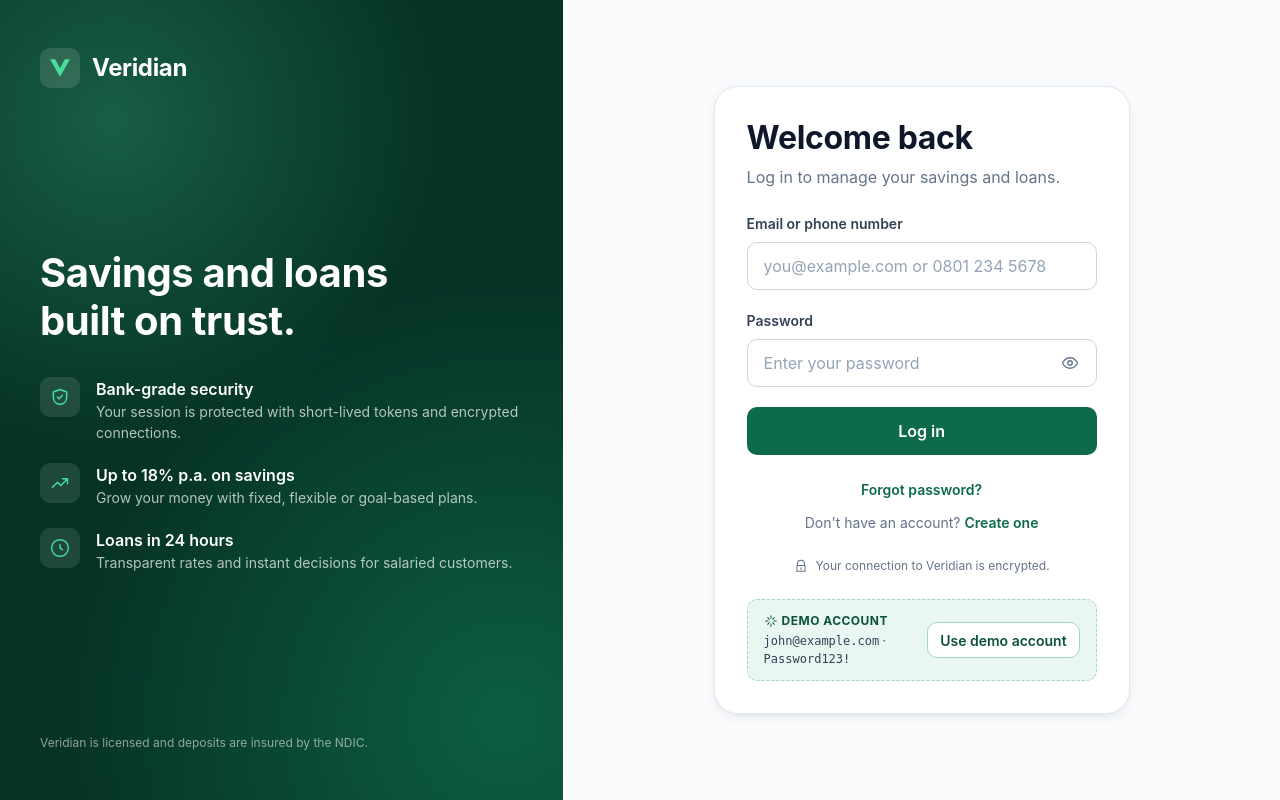
application flows › logs in successfully and lands on the dashboard
In the field labelled "Email or phone number": (922, 266) [748,243,1096,289], type "john@example.com"
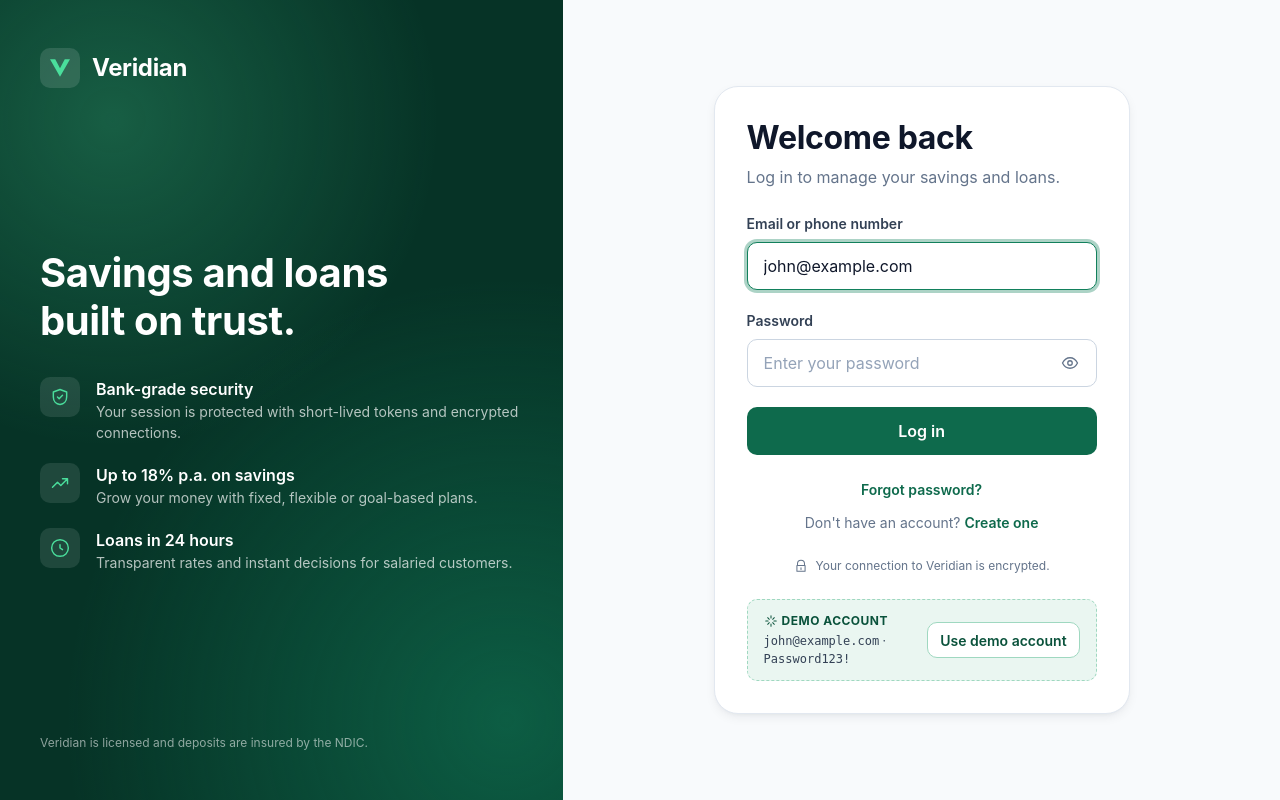
In the password field labelled "Password": (900, 363) [748,340,1052,386], type "Password123!"
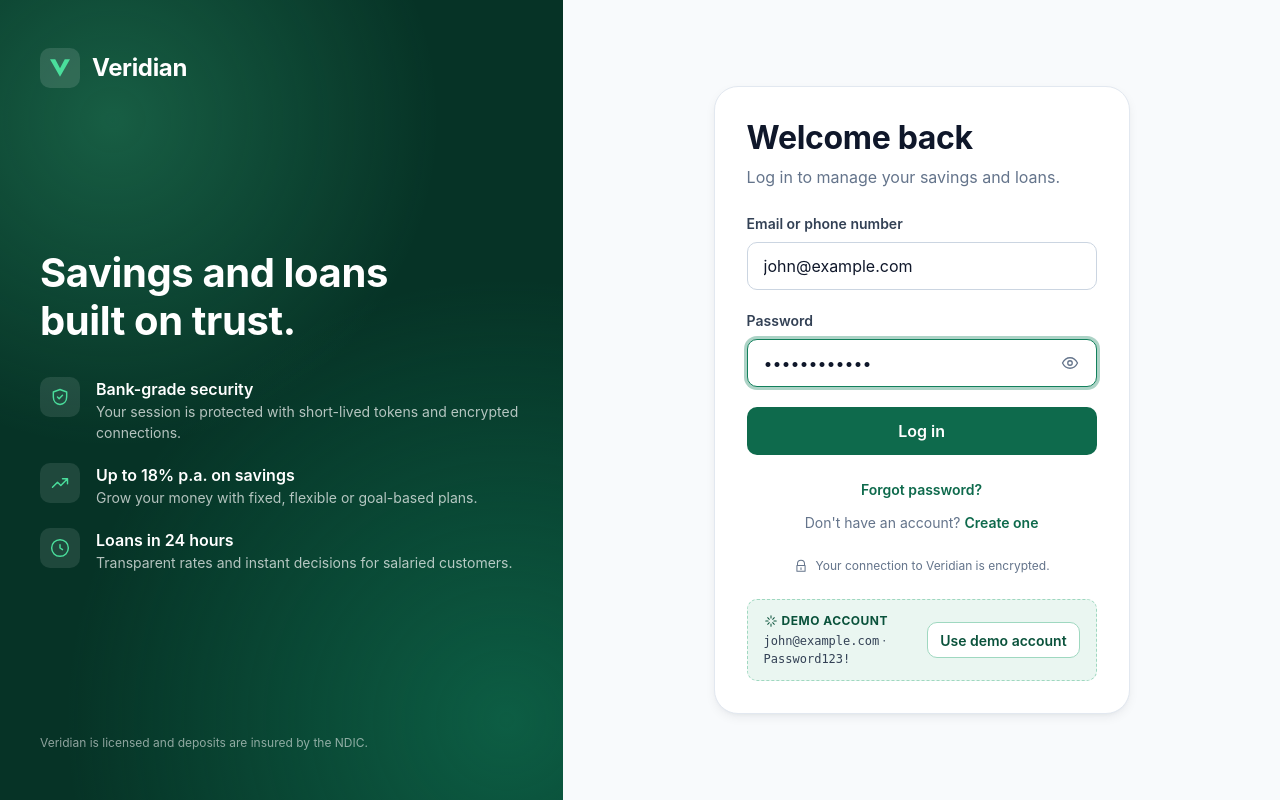
Click the button "Log in": (922, 431) [747,407,1097,455]
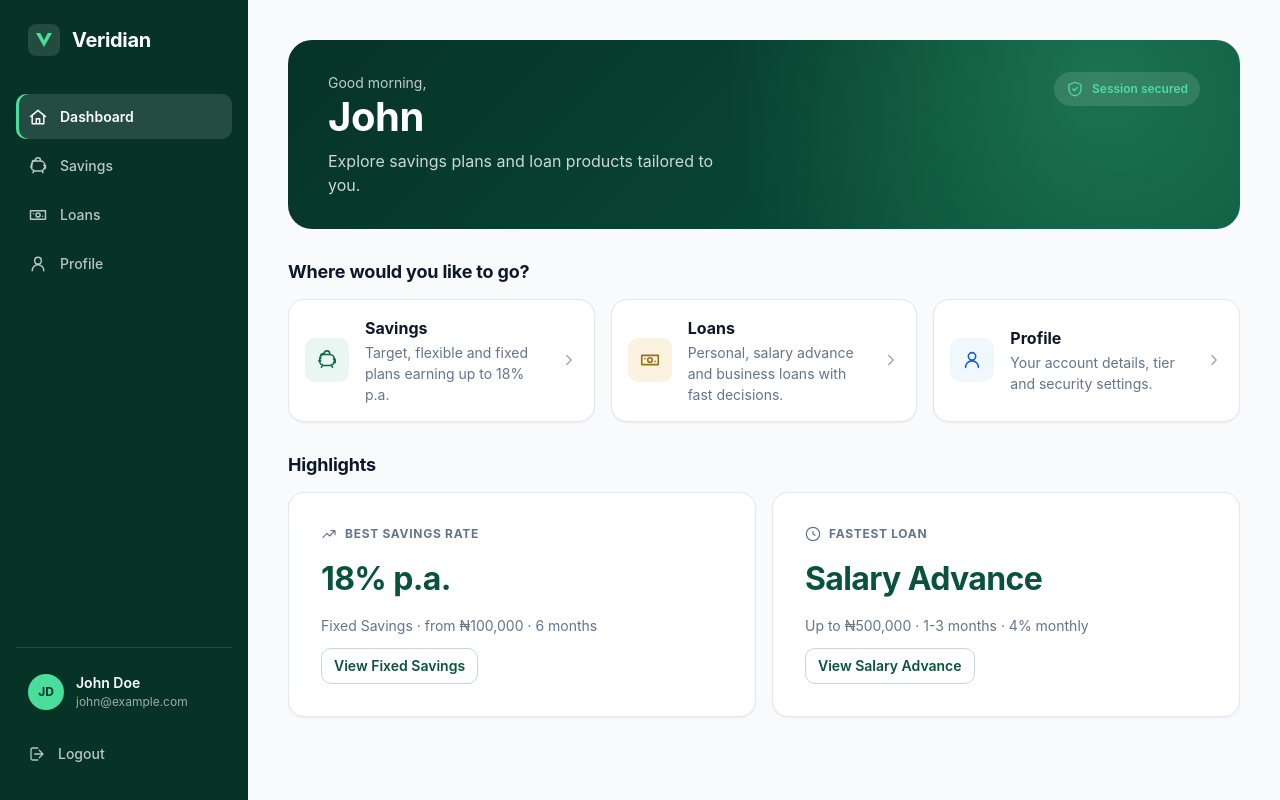
Now the heading "John" is shown, box [328,92,424,141]
